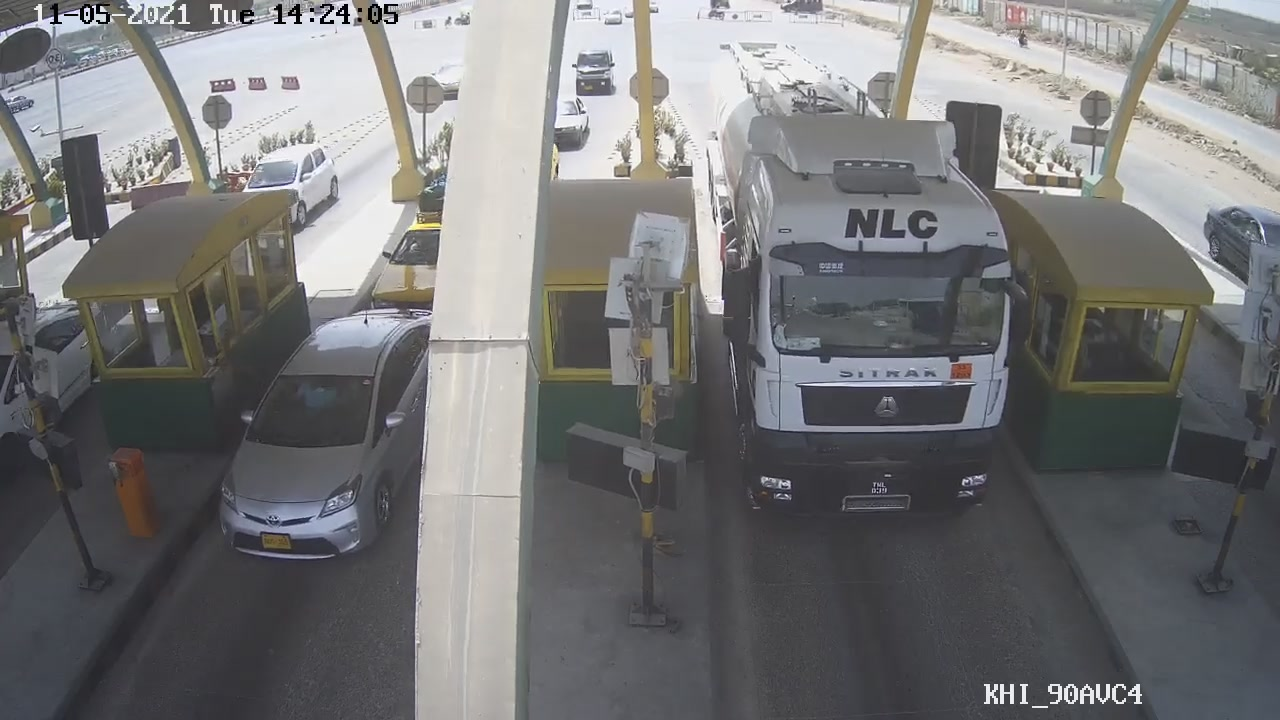F6: (693, 35, 1027, 519)
